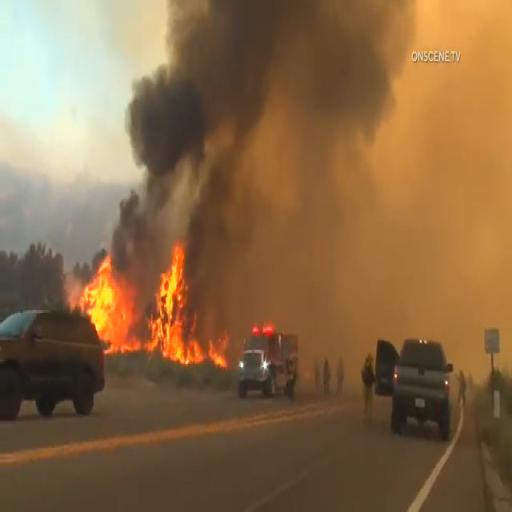fire: (95, 16, 383, 226), (145, 231, 193, 367), (75, 252, 134, 351), (200, 328, 237, 374)
